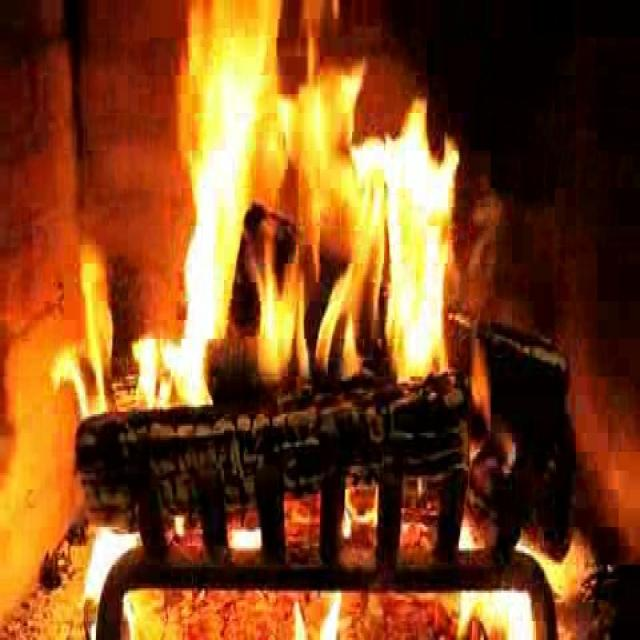fire: (151, 6, 476, 419)
